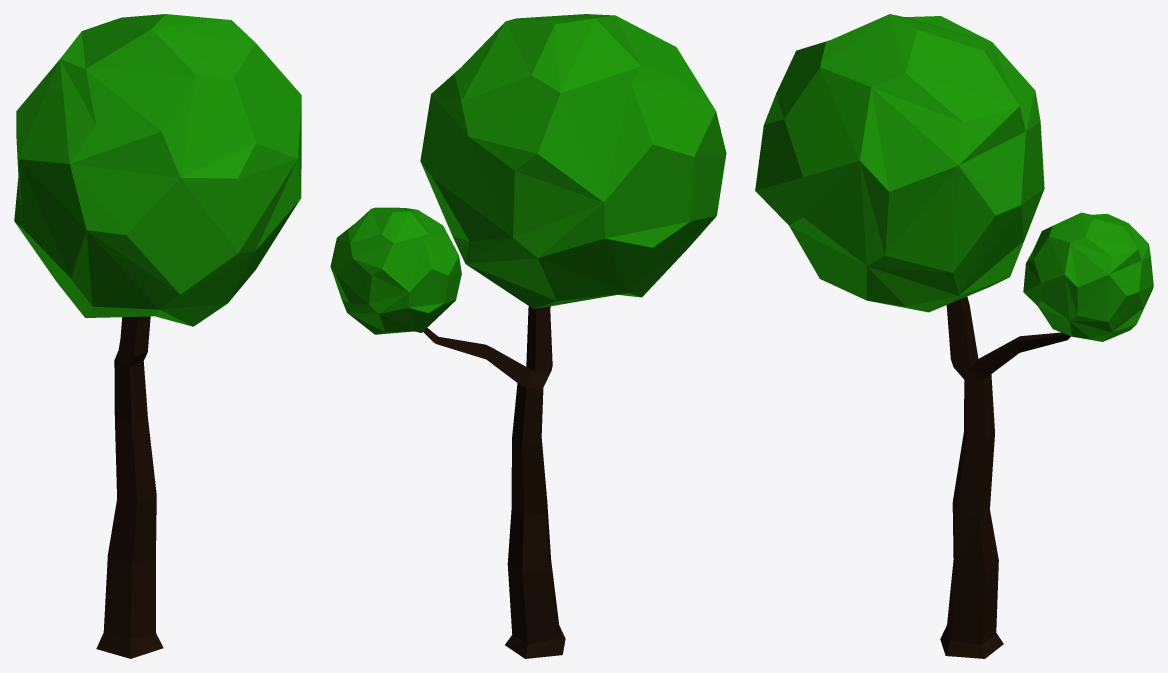
The model's file is tree2.FBX.
The picture shows the model from 3 angles, left to right: view 1: azimuth 30°, elevation 25°; view 2: azimuth 150°, elevation 25°; view 3: azimuth 270°, elevation 25°; orthographic projection. The views are drawn at different scales.
Parts seen in each view (by area): view 1: Cylinder023; view 2: Cylinder023; view 3: Cylinder023.
Boxes of the visible parts, <box> form: Cylinder023: <box>14,14,301,658</box>; Cylinder023: <box>330,14,726,658</box>; Cylinder023: <box>755,14,1153,658</box>.
Size of the model in its own units: 60.96 by 132 by 76.38.
